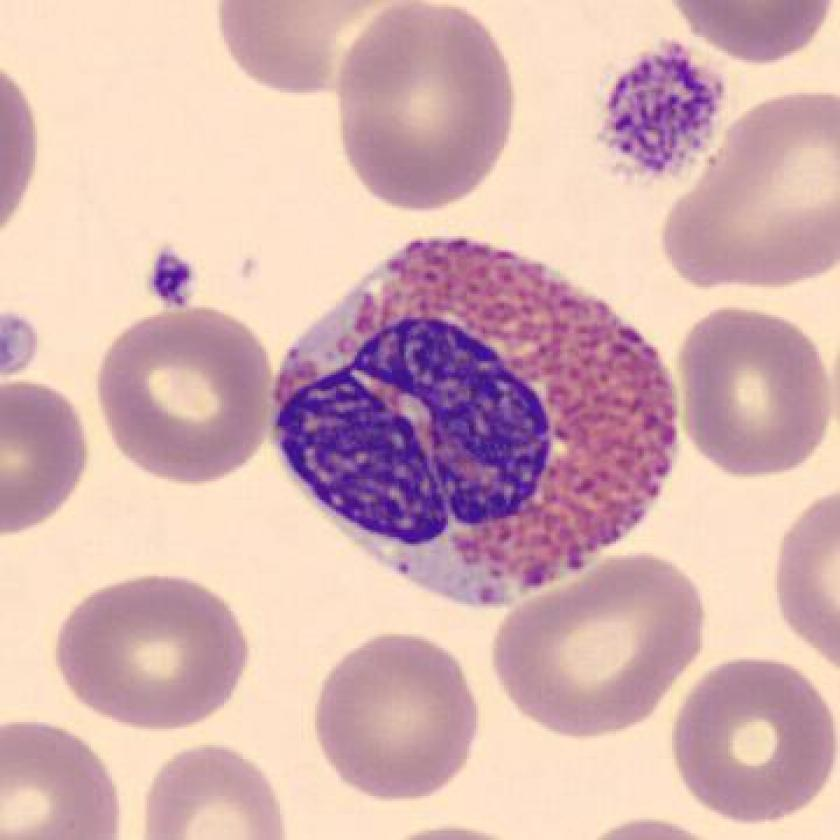eosinophil: (253, 218, 689, 619)
